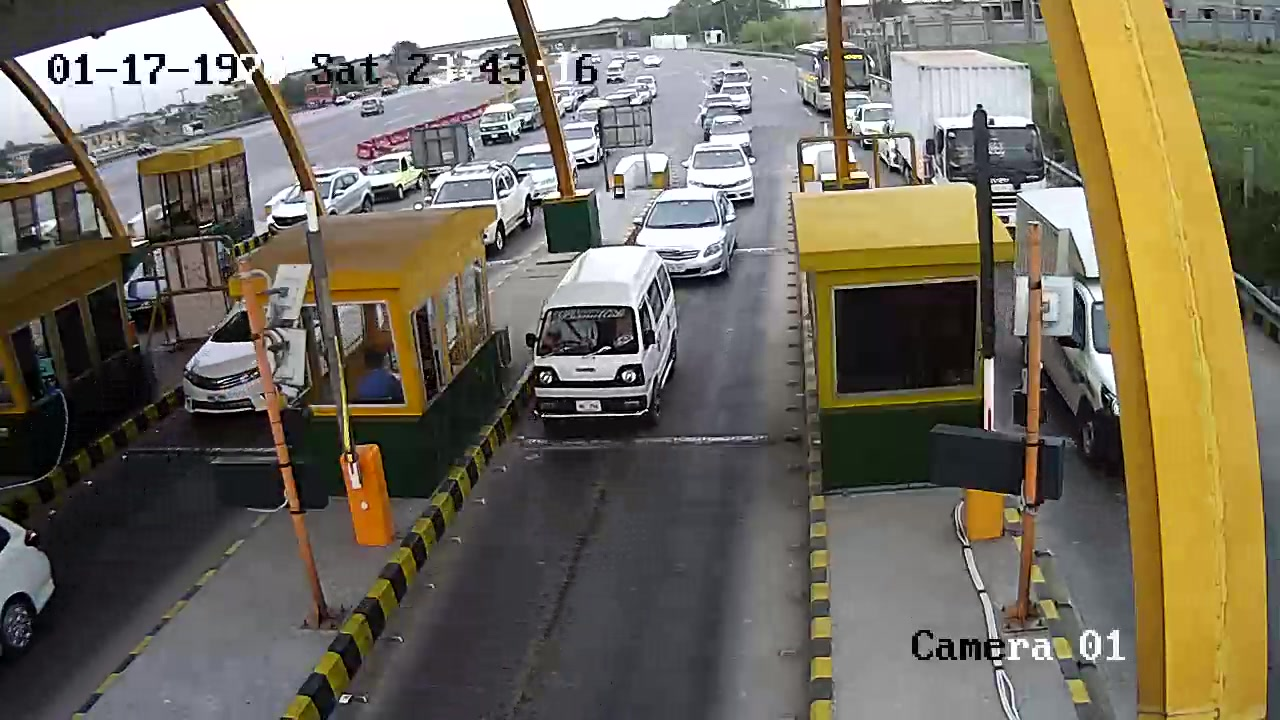F1: (526, 244, 685, 443)
